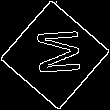M_W: (28, 30, 82, 80)
